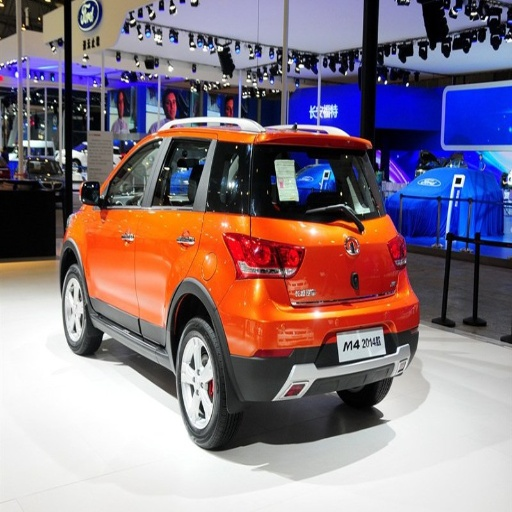back_bumper: (225, 268, 419, 401)
back_glass: (232, 143, 374, 221)
back_left_door: (137, 137, 206, 339)
trunk: (251, 218, 396, 328)
